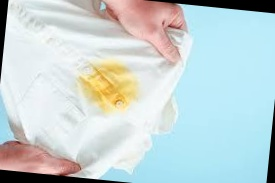mustard: (82, 67, 134, 109)
